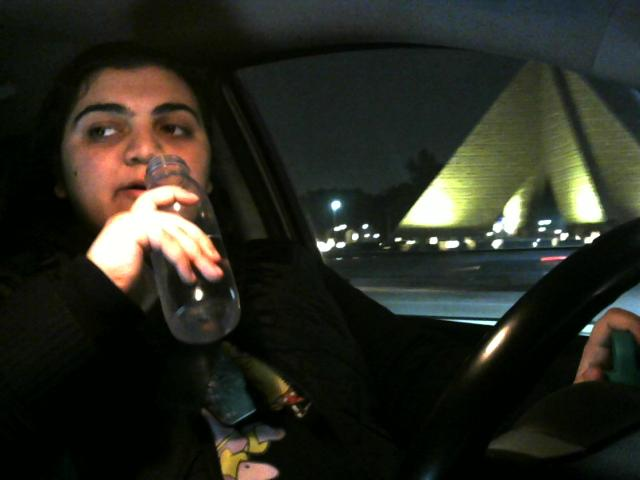Drinking: (54, 68, 241, 343)
